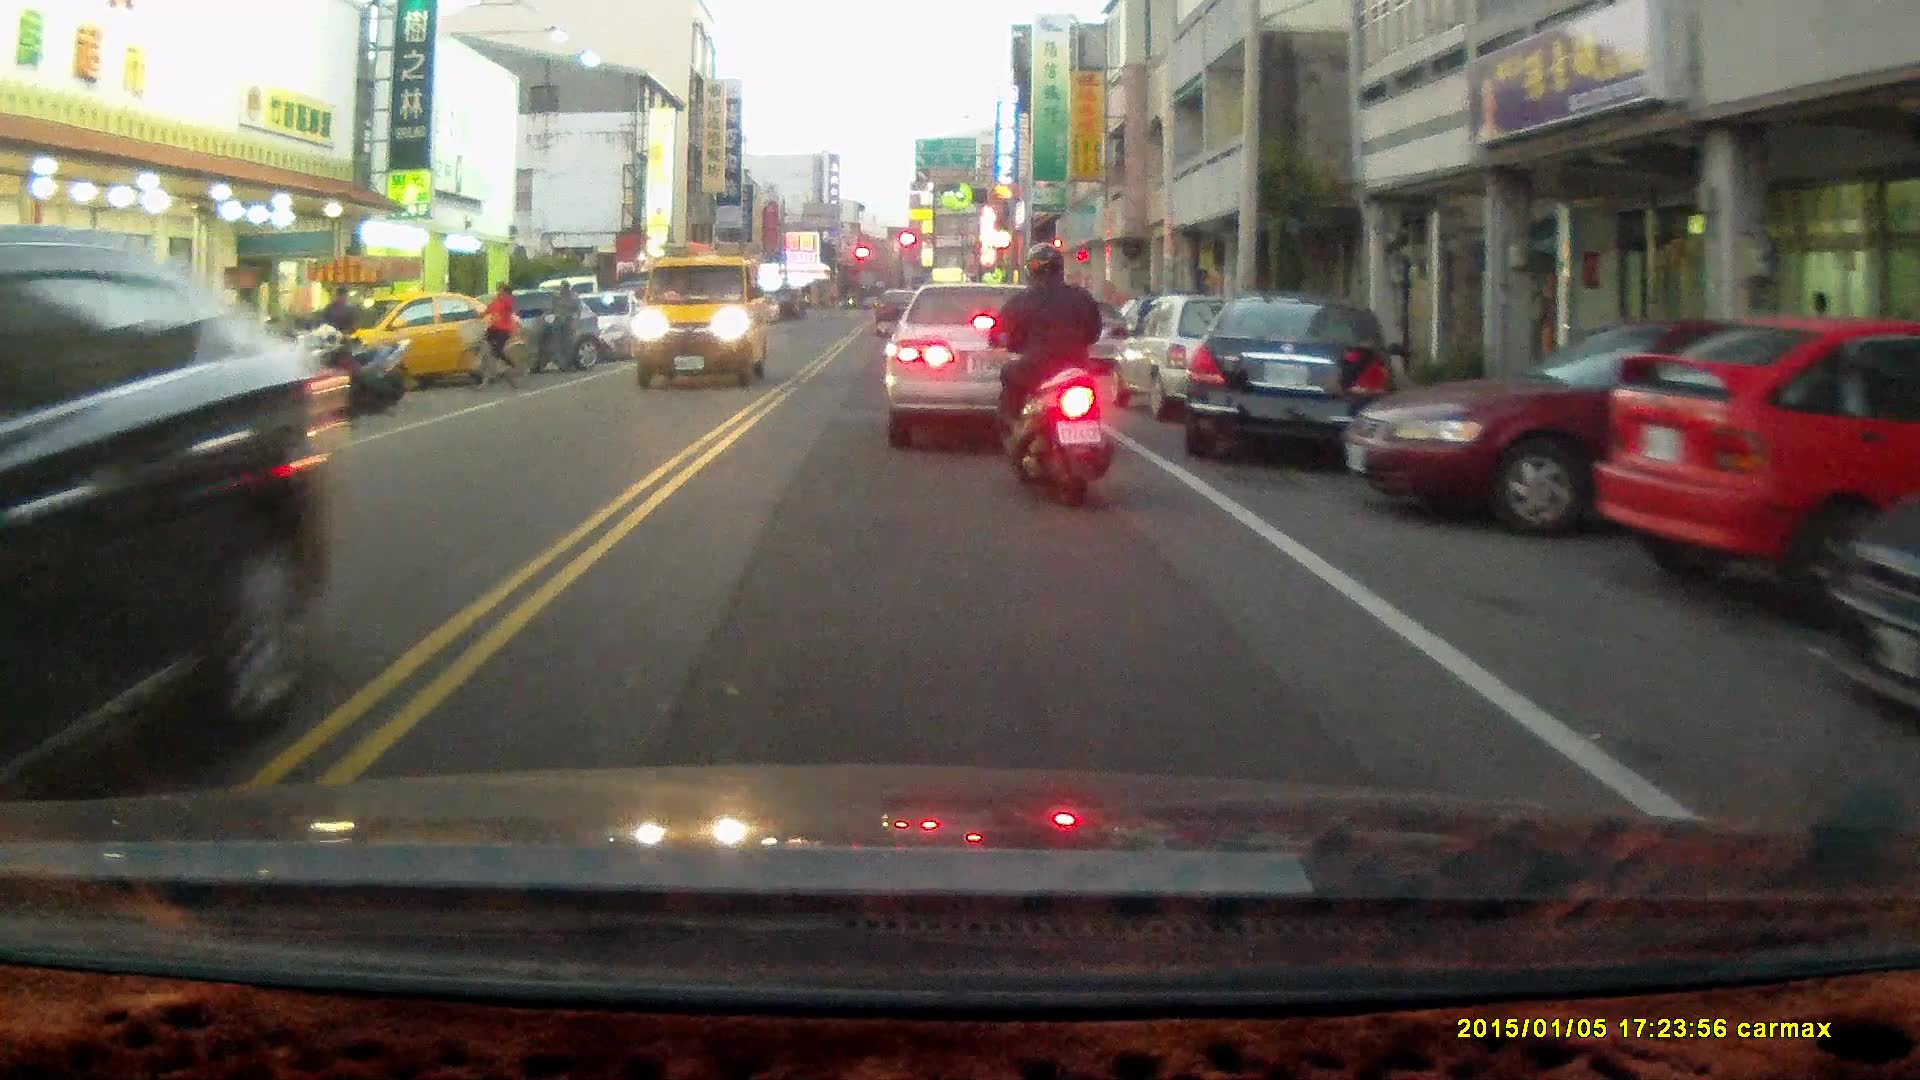pedestrian: (549, 275, 584, 372), (321, 283, 357, 369)
rider: (975, 237, 1119, 510), (455, 279, 530, 395)
vehicle: (1, 241, 331, 803), (1352, 310, 1827, 538), (1594, 313, 1920, 617), (1177, 292, 1400, 460), (886, 272, 1088, 434), (1099, 290, 1281, 422), (1829, 478, 1920, 731), (633, 246, 766, 387), (347, 289, 528, 385)
